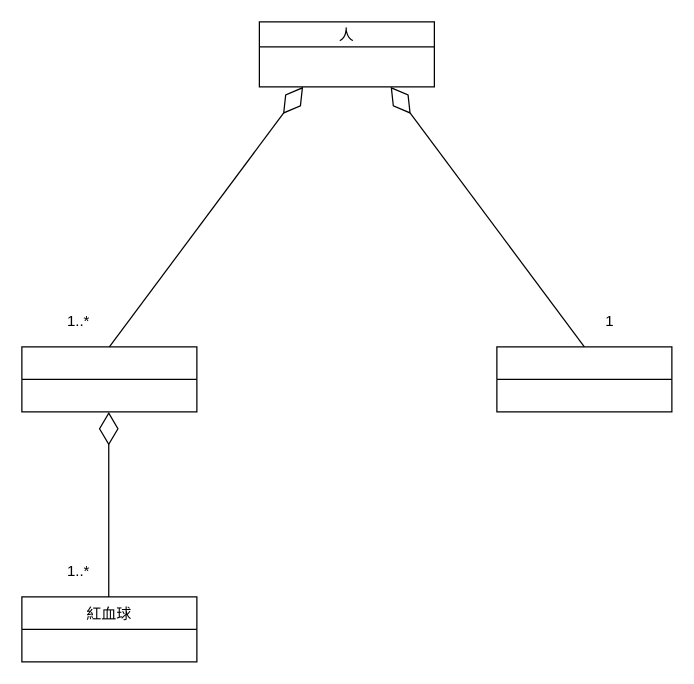
Some shapes in this 694 by 684 pixel diagram are drawn without their labels. Here are the shapes that lost their labels. From the top down, the box of each, then its label:
(21, 346, 197, 412): 血液
(496, 346, 672, 412): 肉體
